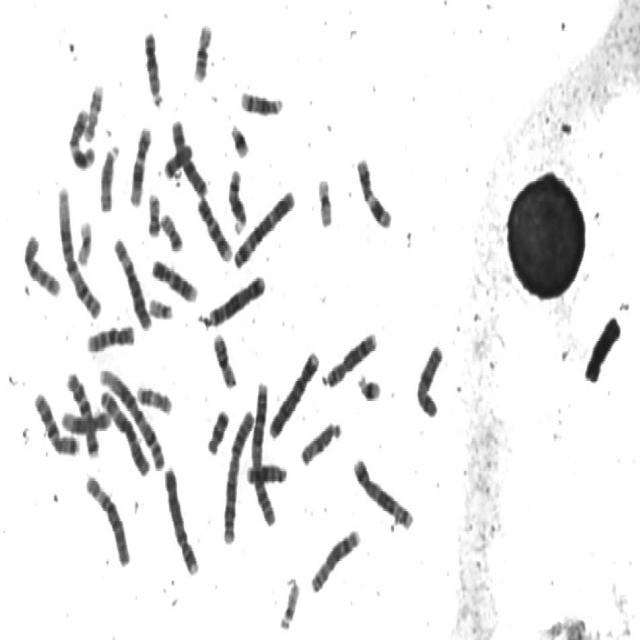A1: (96, 362, 168, 473), (54, 179, 104, 321)
A2: (220, 403, 256, 547), (249, 374, 278, 529)
A3: (231, 182, 298, 270), (98, 382, 152, 478)
B4: (266, 343, 322, 441), (162, 459, 201, 578)
B5: (351, 450, 416, 531), (204, 268, 268, 328)
C10: (20, 227, 63, 300), (84, 318, 136, 354)
C11: (353, 150, 395, 231), (66, 101, 98, 171)
C12: (126, 119, 154, 208), (59, 401, 113, 436)
C6: (82, 468, 133, 569), (111, 230, 154, 331)
C7: (31, 386, 82, 458), (63, 365, 101, 459)
C8: (307, 521, 363, 595), (322, 324, 380, 389)
C9: (195, 191, 234, 263), (149, 252, 200, 304)
D13: (140, 23, 166, 109), (243, 456, 289, 486)
D14: (226, 162, 250, 236), (237, 83, 285, 118)
D15: (298, 414, 345, 468), (97, 138, 122, 214)
E16: (210, 327, 240, 390), (190, 16, 214, 84)
E17: (80, 76, 106, 144), (134, 378, 174, 417)
E18: (204, 402, 231, 457), (162, 137, 194, 180)
F19: (314, 170, 335, 229), (74, 212, 94, 268)
F20: (157, 206, 186, 253), (144, 185, 163, 239)
G21: (226, 116, 252, 160), (355, 367, 384, 402)
G22: (277, 572, 302, 632), (146, 291, 176, 321)
X: (168, 112, 210, 199), (412, 338, 446, 419)
